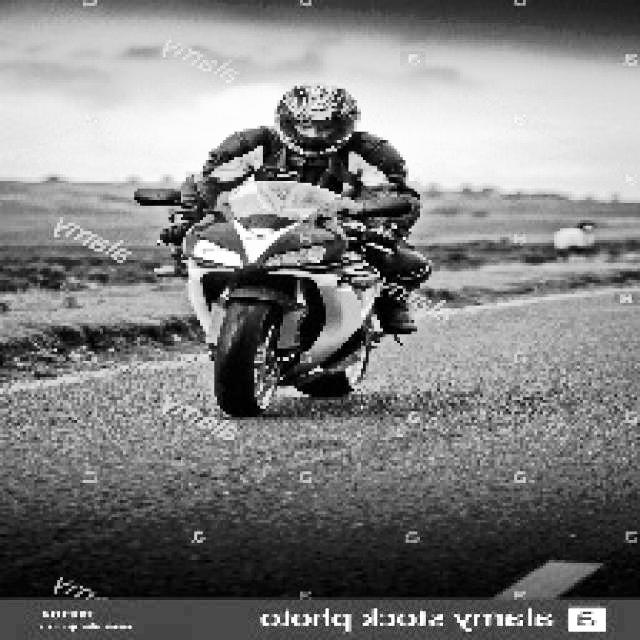Bike: (154, 168, 418, 420)
